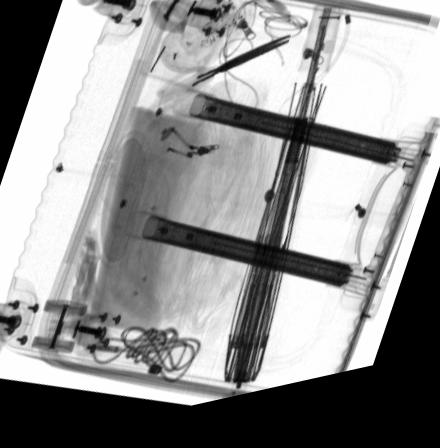Scissors: (145, 47, 292, 129)
